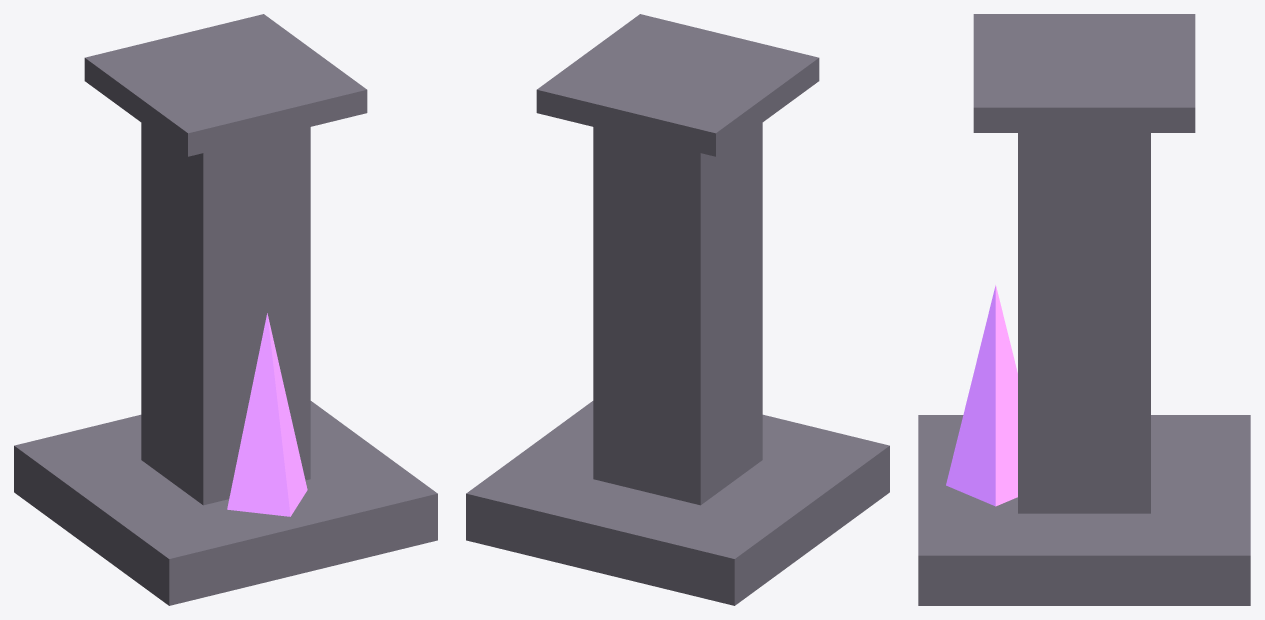
The model's file is anchor-monument.glb.
3 views of the same model, side by side, from view 1: azimuth 30°, elevation 25°; view 2: azimuth 150°, elevation 25°; view 3: azimuth 270°, elevation 25° (orthographic). The views are drawn at different scales.
Visible parts, largest first — view 1: pillar, plinth, cap, signal; view 2: pillar, plinth, cap; view 3: pillar, plinth, cap, signal.
Part boxes in pixels (bbox=[...]): pillar: bbox=[141, 123, 310, 505]; plinth: bbox=[14, 401, 437, 605]; cap: bbox=[84, 14, 367, 156]; signal: bbox=[227, 313, 307, 516]; pillar: bbox=[593, 123, 762, 505]; plinth: bbox=[466, 401, 889, 605]; cap: bbox=[536, 14, 819, 156]; pillar: bbox=[1018, 133, 1150, 513]; plinth: bbox=[918, 415, 1250, 605]; cap: bbox=[973, 14, 1195, 132]; signal: bbox=[946, 285, 1017, 506].
Size of the model in its own units: 3 by 4.72 by 3.
